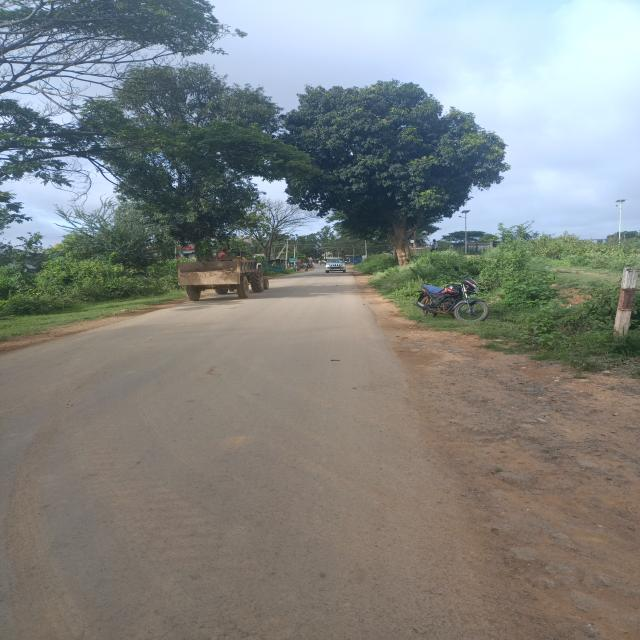Bike: (414, 278, 498, 326), (303, 265, 309, 274), (290, 267, 300, 272), (352, 261, 358, 265)
Car: (322, 256, 347, 274)
tractor: (176, 244, 278, 307)
